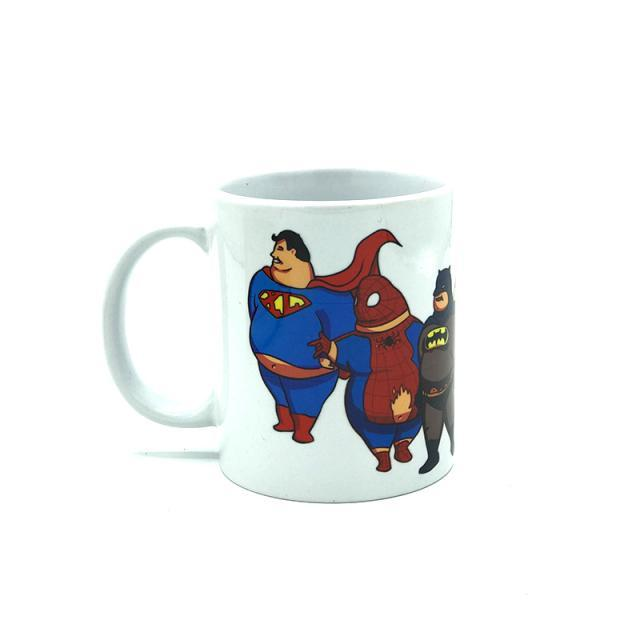Coffee Mug: (101, 163, 456, 506)
